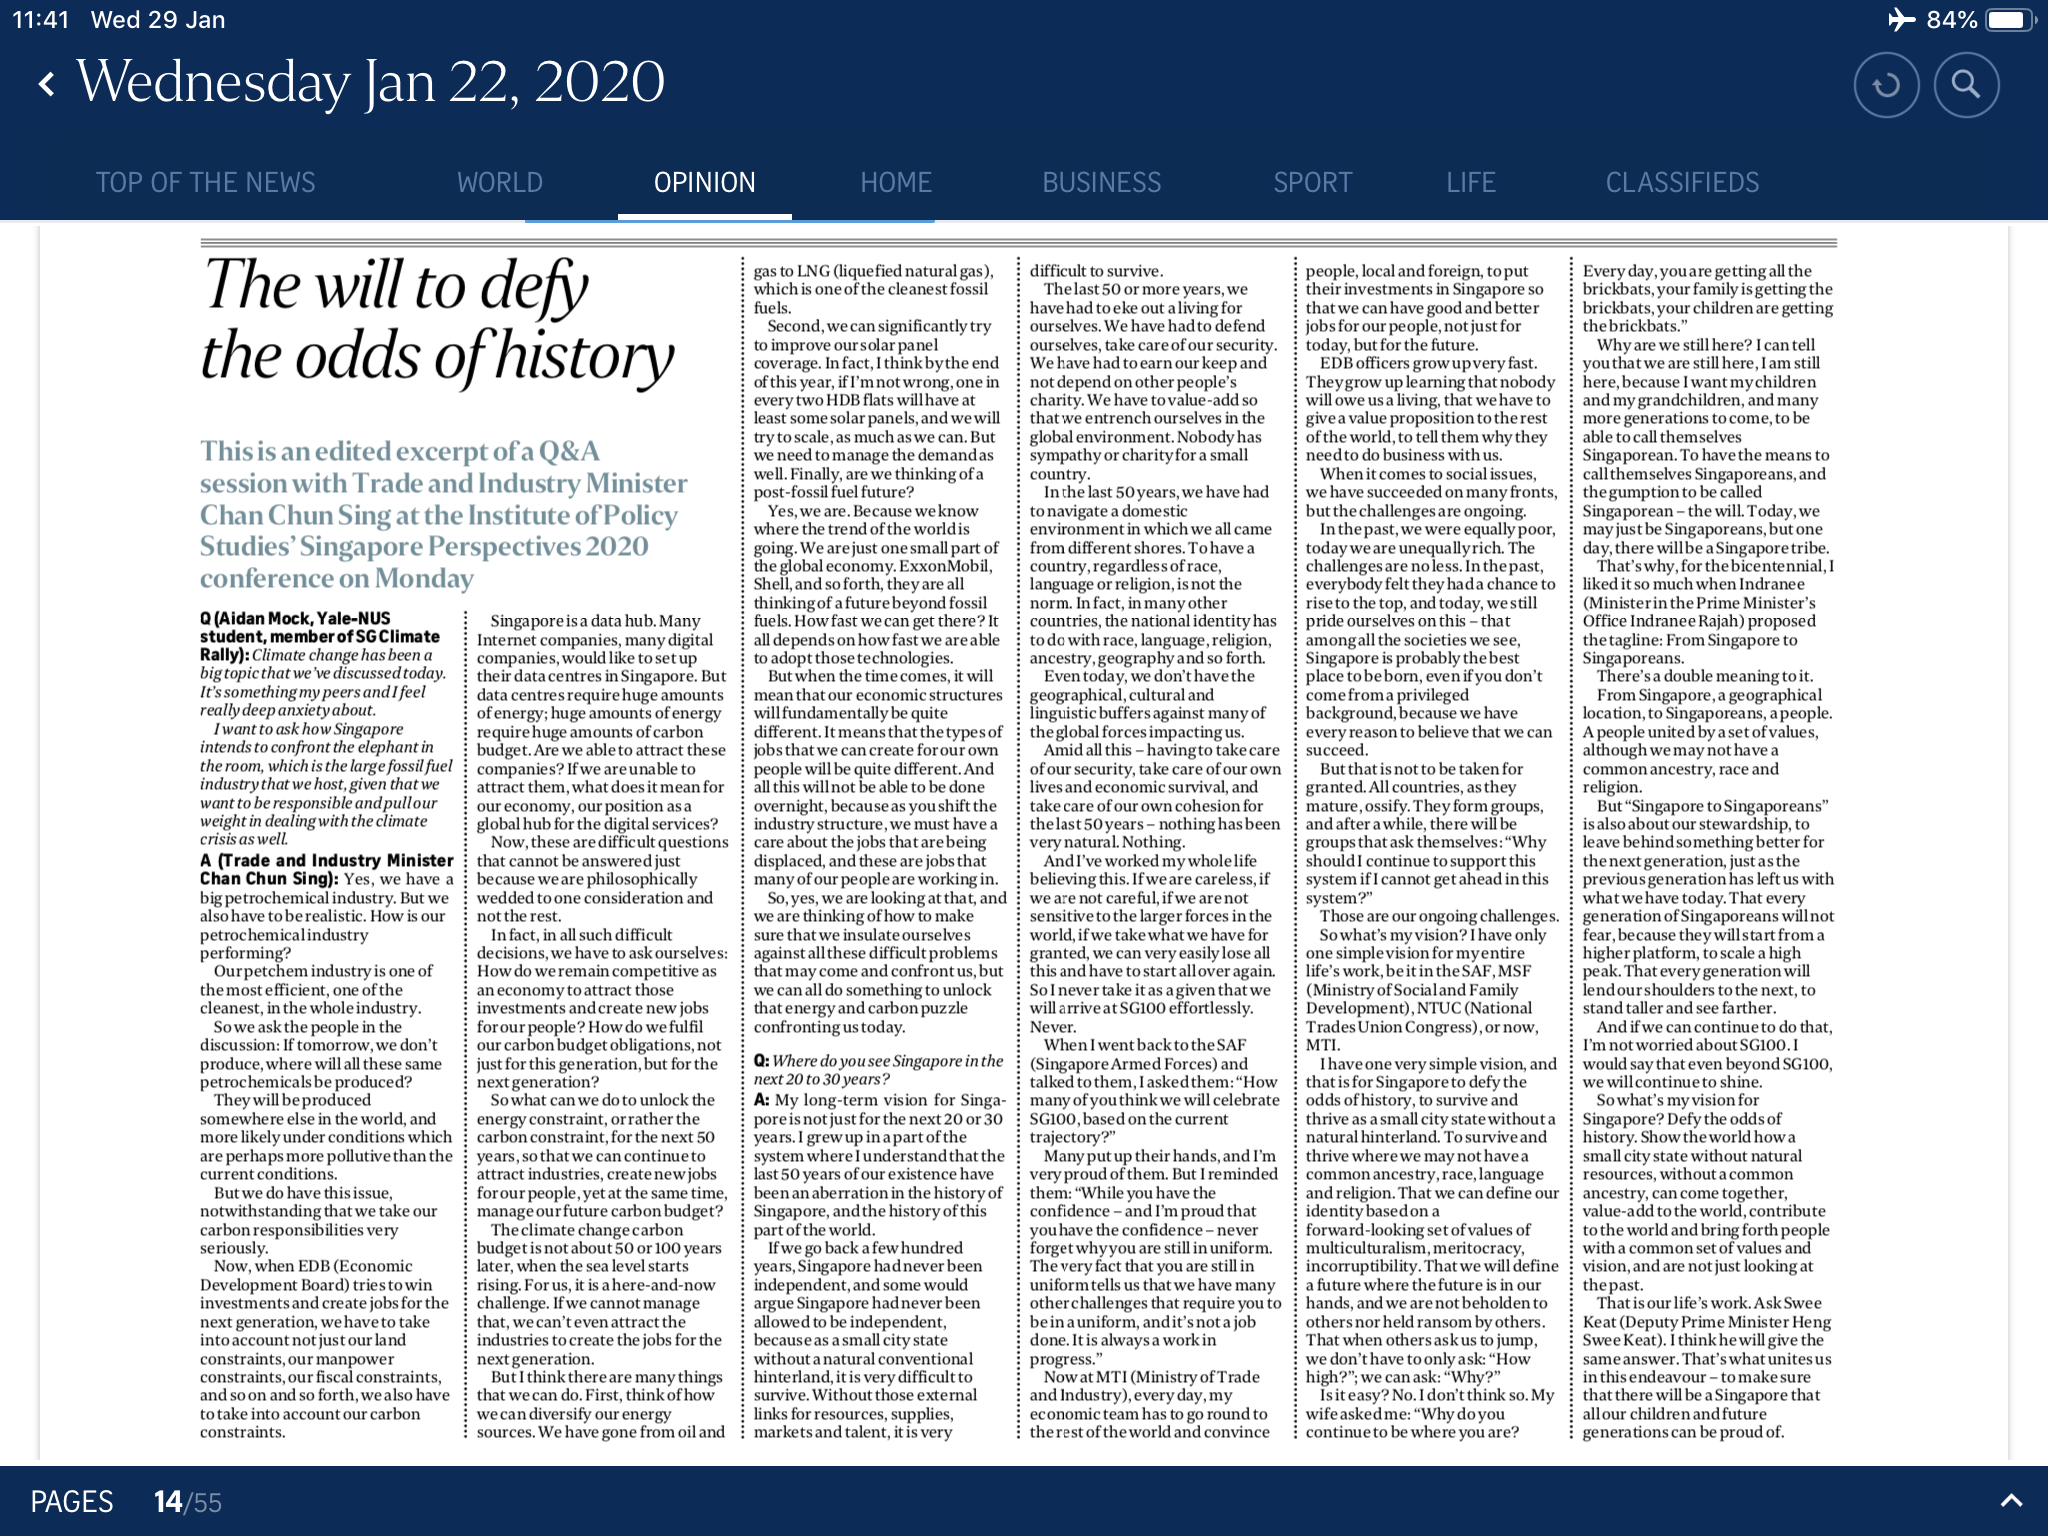Headline: (200, 252, 677, 395)
Text: (1580, 263, 1838, 1447), (1029, 261, 1284, 1442), (1305, 261, 1559, 1442), (753, 261, 1001, 1449), (198, 608, 453, 1439), (474, 610, 726, 1446)
